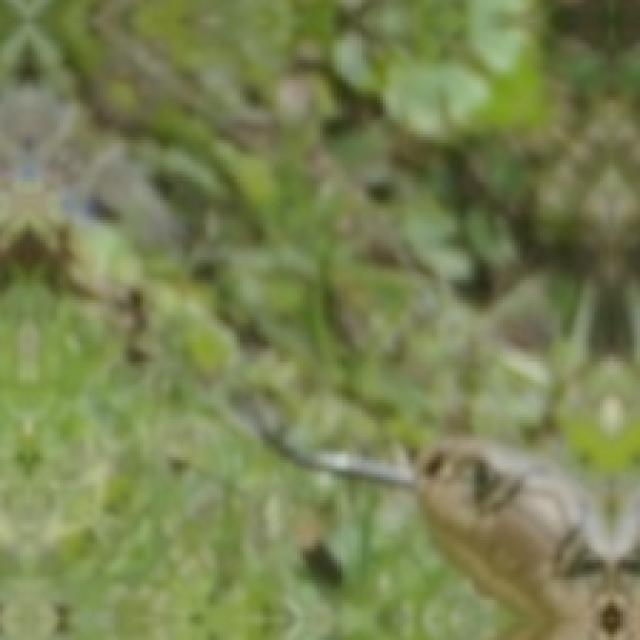king cobra: (260, 429, 637, 637)
